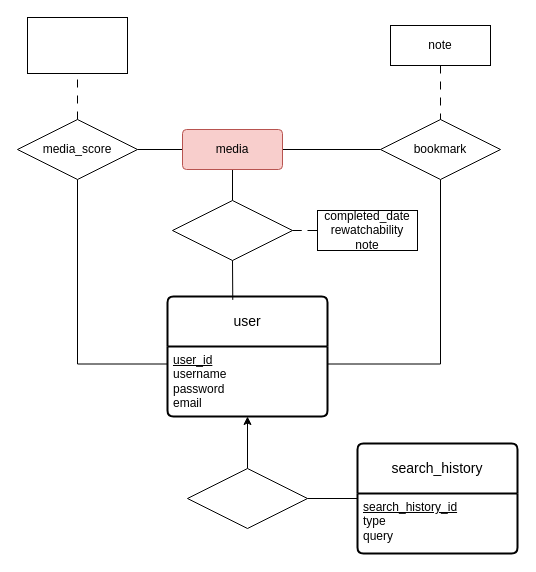
Some shapes in this 536 by 572 pixel diagram are drawn without their labels. Each missing label, with the box of its shape:
score_val review_text created_at: (26, 16, 128, 74)
user_search: (186, 468, 308, 528)
watched: (172, 200, 292, 260)
